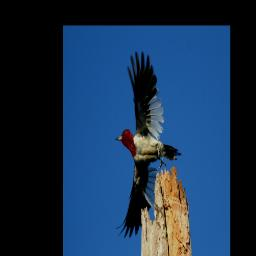Woodpecker: (115, 50, 182, 239)
